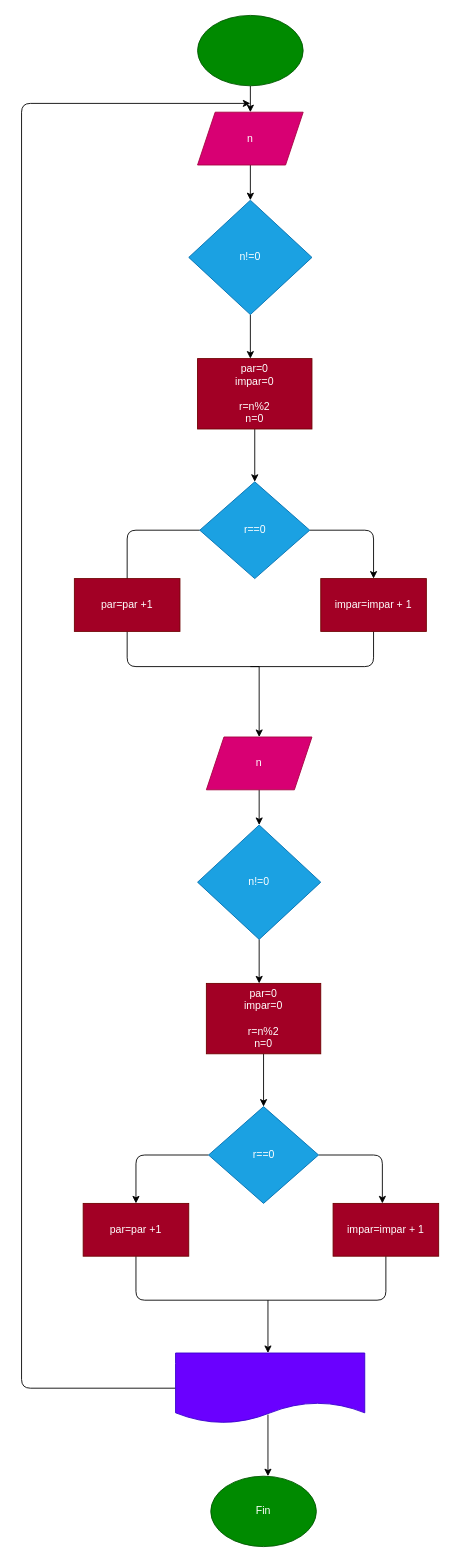
Some shapes in this 454 by 1562 pixel diagram are drawn without their labels. Here are the shapes that lost their labels. From the top down, the centre of each, then its label:
At point 250,50: "Inicio".
At point 270,1387: "se imgrasaron (par) numeros pares se ingresaron (impar) número impares".
